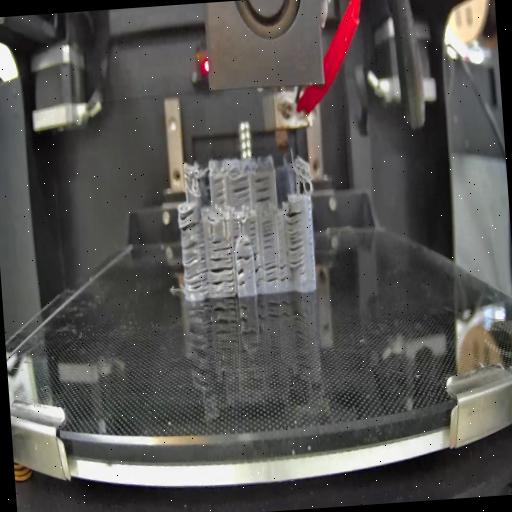cracks: (284, 205, 310, 271), (182, 236, 210, 292), (208, 254, 234, 296), (176, 204, 202, 232), (266, 256, 290, 286), (230, 176, 252, 201), (253, 178, 273, 204), (212, 177, 230, 205), (262, 216, 274, 250), (212, 236, 232, 252), (254, 253, 264, 285), (248, 216, 259, 240), (232, 214, 240, 240), (238, 268, 246, 288), (237, 252, 252, 262), (242, 240, 252, 248)
